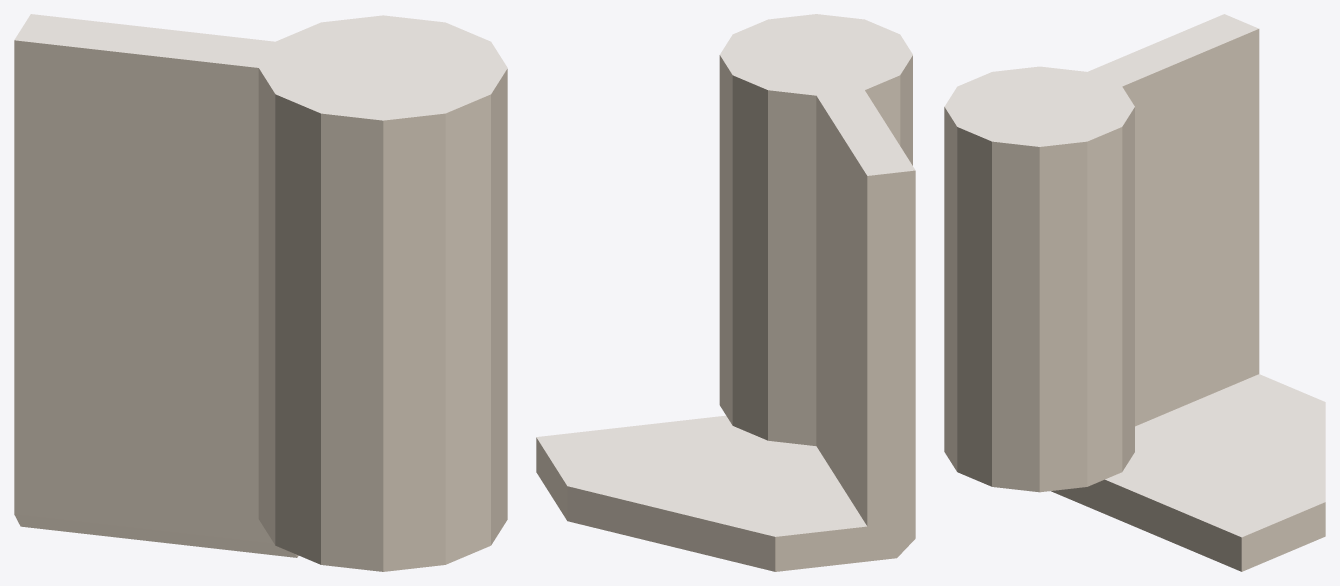
Rendered from Tower_Top.glb.
The picture shows the model from 3 angles, left to right: view 1: azimuth 30°, elevation 25°; view 2: azimuth 150°, elevation 25°; view 3: azimuth 270°, elevation 25°; orthographic projection. The views are drawn at different scales.
Parts seen in each view (by area): view 1: Tower_Top; view 2: Tower_Top; view 3: Tower_Top.
Boxes of the visible parts, left/top/right/bottom form: Tower_Top: left=14, top=14, right=507, bottom=571; Tower_Top: left=536, top=14, right=915, bottom=571; Tower_Top: left=944, top=14, right=1325, bottom=571.
Size of the model in its own units: 0.9958 by 0.99 by 0.9.
